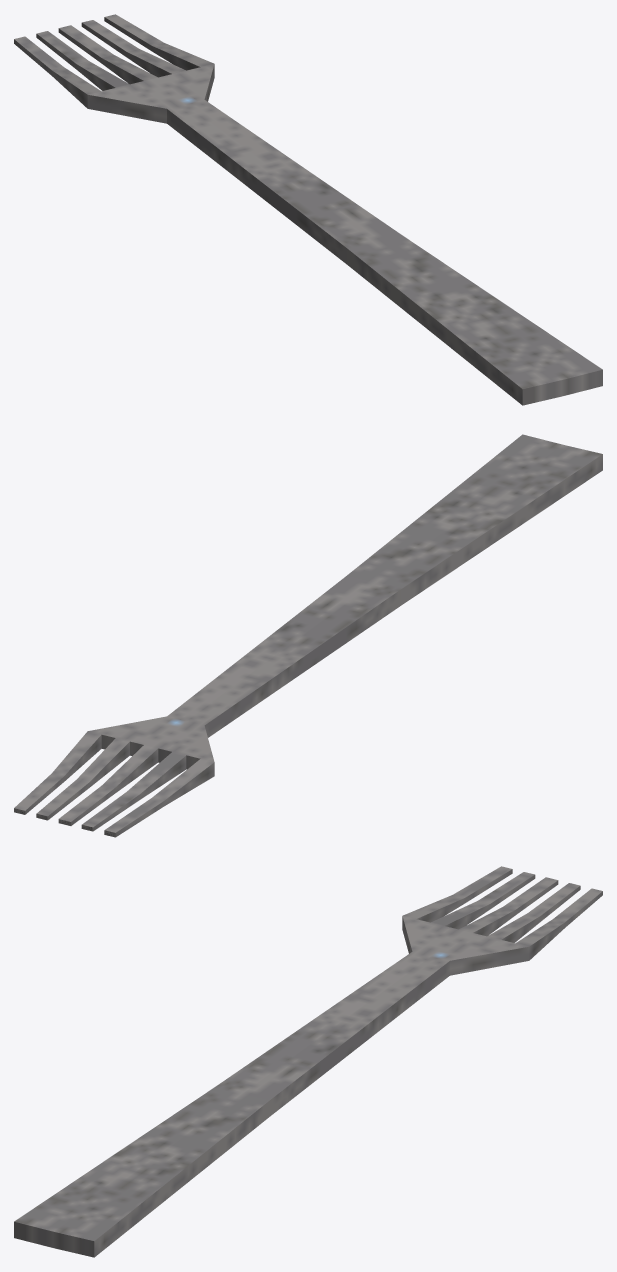
File: SM_Dungeon_Fork.fbx
The picture shows the model from 3 angles, top to bottom: view 1: azimuth 30°, elevation 25°; view 2: azimuth 150°, elevation 25°; view 3: azimuth 330°, elevation 25°; orthographic projection.
Parts seen in each view (by area): view 1: SM_Dungeon_Fork; view 2: SM_Dungeon_Fork; view 3: SM_Dungeon_Fork.
Boxes of the visible parts, x1,y1,x2,y2 form: SM_Dungeon_Fork: [14, 14, 602, 405]; SM_Dungeon_Fork: [14, 434, 602, 837]; SM_Dungeon_Fork: [14, 866, 602, 1257].
Size of the model in its own units: 4.01 by 0.5084 by 27.25.
